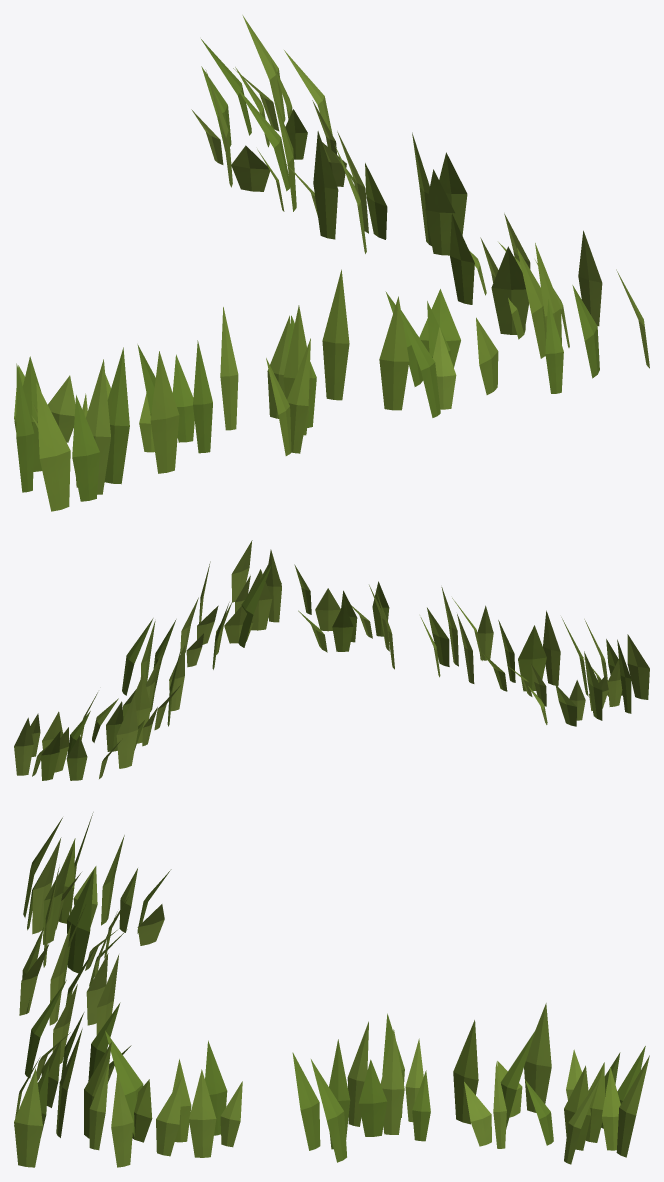
File: tile_grass_corner_04.glb
3 renders of one model, top to bottom at view 1: azimuth 30°, elevation 25°; view 2: azimuth 150°, elevation 25°; view 3: azimuth 270°, elevation 25°, orthographic. The views are drawn at different scales.
Visible parts, largest first — view 1: tile_grass_corner_04; view 2: tile_grass_corner_04; view 3: tile_grass_corner_04.
Boxes of the visible parts, x1,y1,x2,y2 form: tile_grass_corner_04: (14, 15, 649, 511); tile_grass_corner_04: (14, 540, 649, 780); tile_grass_corner_04: (14, 812, 649, 1167).
Size of the model in its own units: 0.9504 by 0.1799 by 0.9817.
Materials: 1 (1 with a texture image).
